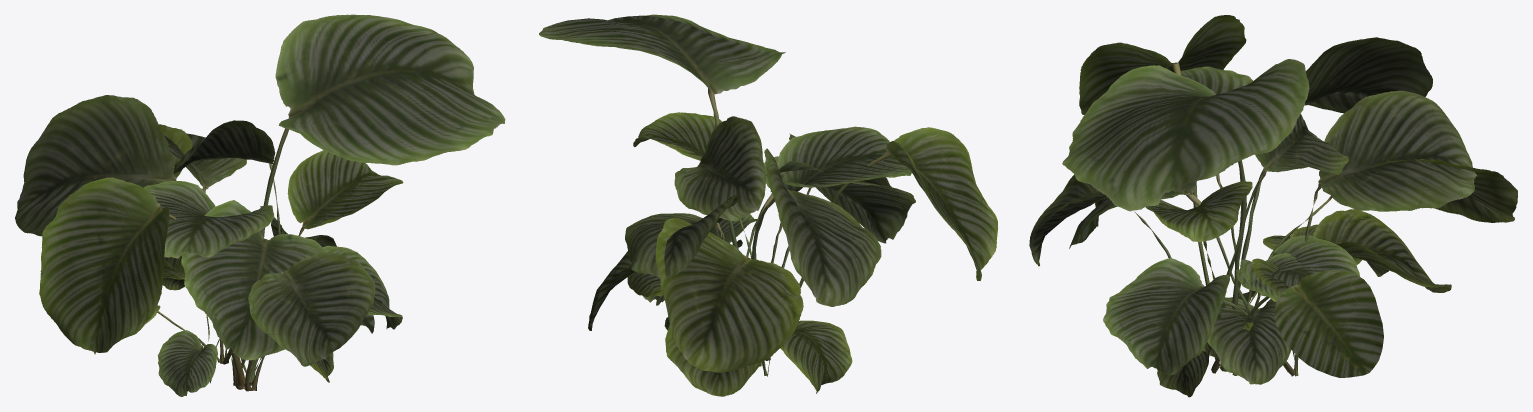
Rendered from calathea-orbifolia-01.glb.
3 views of the same model, side by side, from view 1: azimuth 30°, elevation 25°; view 2: azimuth 150°, elevation 25°; view 3: azimuth 270°, elevation 25° (orthographic). The views are drawn at different scales.
Parts seen in each view (by area): view 1: calathea_orbifolia_01_a, calathea_orbifolia_01_b, calathea_orbifolia_01_c, calathea_orbifolia_01_d, calathea_orbifolia_01_e; view 2: calathea_orbifolia_01_a, calathea_orbifolia_01_b, calathea_orbifolia_01_c; view 3: calathea_orbifolia_01_a, calathea_orbifolia_01_b, calathea_orbifolia_01_c, calathea_orbifolia_01_d, calathea_orbifolia_01_e.
Part boxes in pixels (bbox=[...]): calathea_orbifolia_01_a: bbox=[15, 14, 505, 391]; calathea_orbifolia_01_b: bbox=[94, 133, 402, 364]; calathea_orbifolia_01_c: bbox=[143, 150, 403, 385]; calathea_orbifolia_01_d: bbox=[157, 272, 219, 396]; calathea_orbifolia_01_e: bbox=[163, 255, 333, 382]; calathea_orbifolia_01_a: bbox=[539, 14, 998, 372]; calathea_orbifolia_01_b: bbox=[625, 156, 915, 393]; calathea_orbifolia_01_c: bbox=[633, 112, 912, 396]; calathea_orbifolia_01_a: bbox=[1029, 15, 1517, 377]; calathea_orbifolia_01_b: bbox=[1069, 90, 1477, 376]; calathea_orbifolia_01_c: bbox=[1145, 66, 1451, 358]; calathea_orbifolia_01_d: bbox=[1207, 290, 1291, 384]; calathea_orbifolia_01_e: bbox=[1157, 224, 1388, 397].
Size of the model in its own units: 0.6006 by 0.4243 by 0.5256.
Materials: 5 (5 with a texture image).
